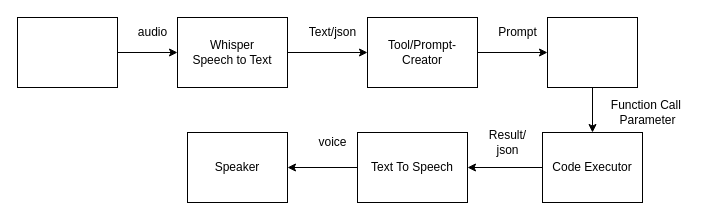
Some shapes in this 715 by 220 pixel diagram are drawn without their labels. Each missing label, with the centre of its shape:
"Ollama / Mistral" belongs at (x=592, y=52).
"Voice Recorder" belongs at (x=67, y=52).
